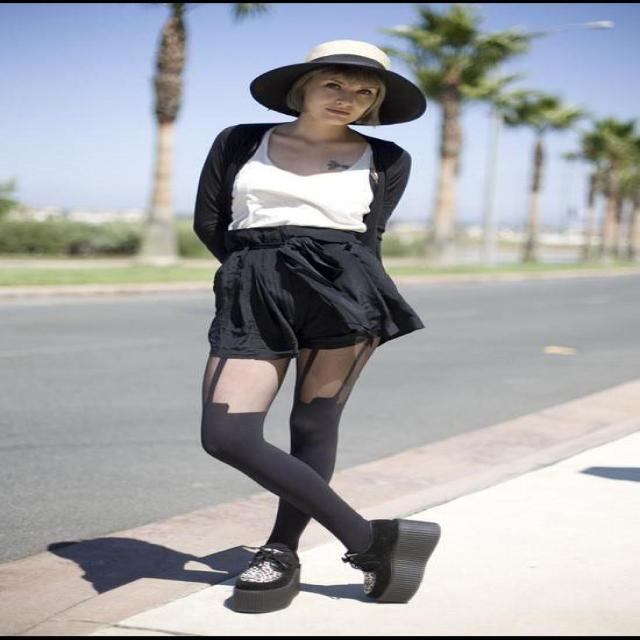Tshirt: (192, 121, 410, 264)
skirt: (208, 230, 428, 358)
